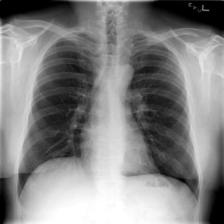normal: (14, 24, 202, 206)
